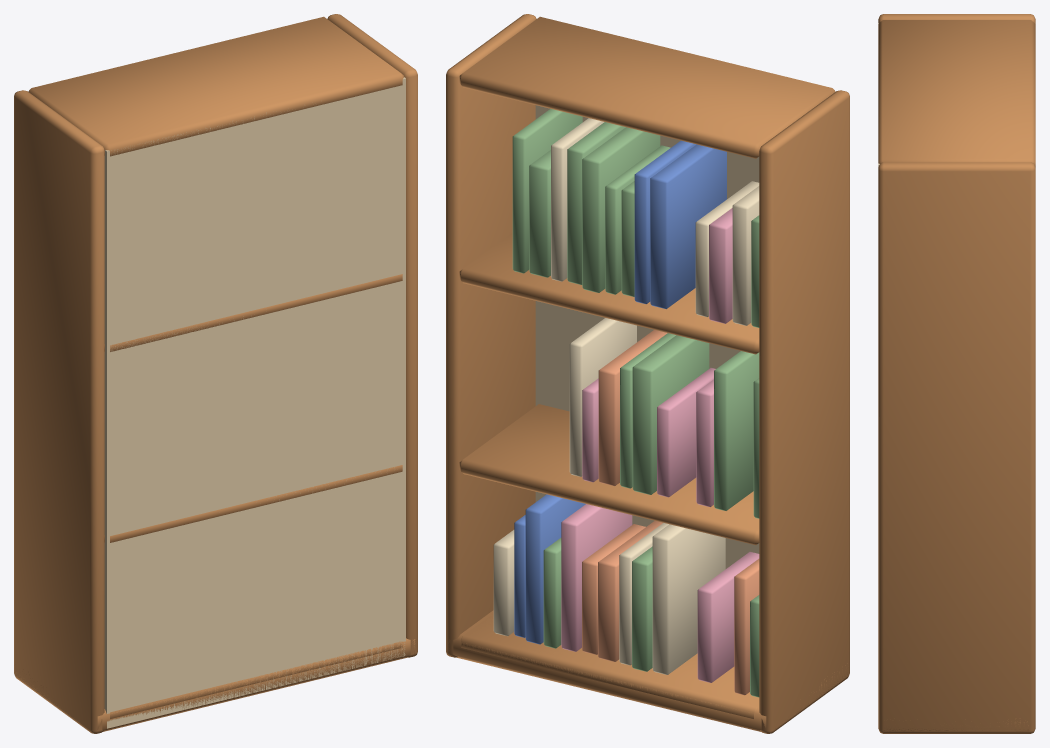
Rendered from junior_bookshelf.glb.
3 views of the same model, side by side, from view 1: azimuth 30°, elevation 25°; view 2: azimuth 150°, elevation 25°; view 3: azimuth 270°, elevation 25° (orthographic). The views are drawn at different scales.
Visible parts, largest first — view 1: junior_bookshelf__WoodLight, junior_bookshelf__Wood; view 2: junior_bookshelf__Wood, junior_bookshelf__BookGreen, junior_bookshelf__Cream, junior_bookshelf__BookPink, junior_bookshelf__BookBlue, junior_bookshelf__BookOrange, junior_bookshelf__WoodLight; view 3: junior_bookshelf__Wood.
Part boxes in pixels (left/top/right/bottom): junior_bookshelf__WoodLight: left=104, top=77, right=405, bottom=728; junior_bookshelf__Wood: left=14, top=14, right=417, bottom=733; junior_bookshelf__Wood: left=446, top=14, right=849, bottom=733; junior_bookshelf__BookGreen: left=512, top=108, right=759, bottom=697; junior_bookshelf__Cream: left=493, top=118, right=759, bottom=674; junior_bookshelf__BookPink: left=561, top=208, right=759, bottom=682; junior_bookshelf__BookBlue: left=514, top=140, right=726, bottom=644; junior_bookshelf__BookOrange: left=582, top=330, right=759, bottom=695; junior_bookshelf__WoodLight: left=535, top=105, right=759, bottom=568; junior_bookshelf__Wood: left=878, top=14, right=1035, bottom=733.
Bounding box in the file's own units: 0.7 × 1.2 × 0.3.
